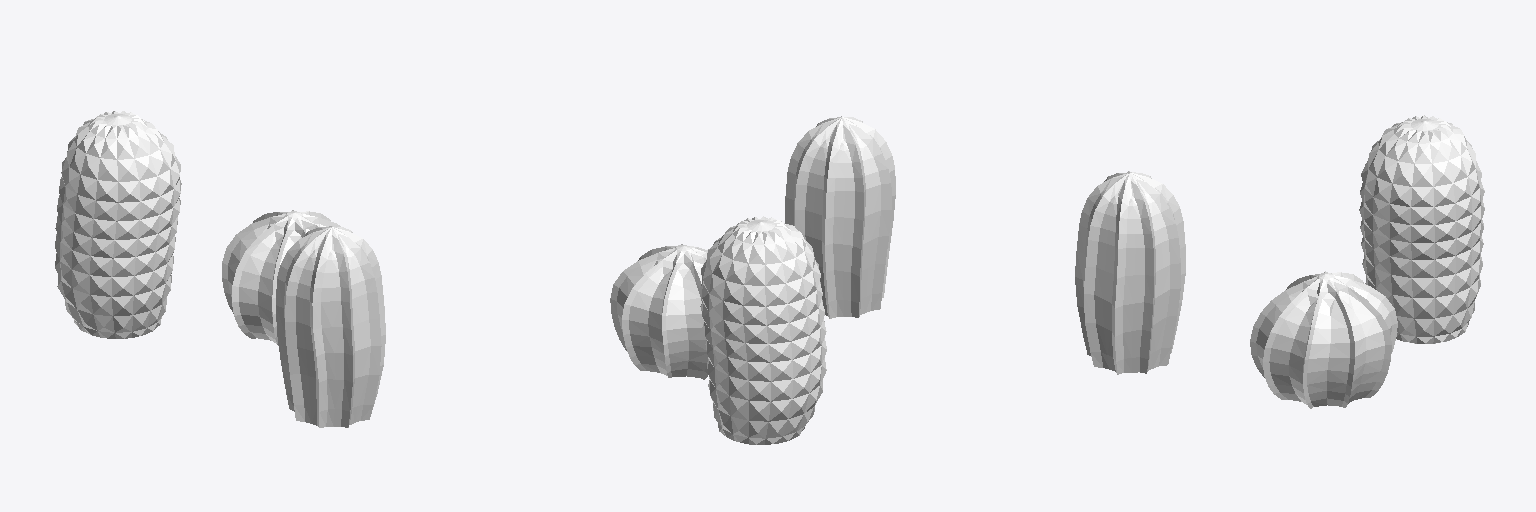
File: sidelight.obj
The picture shows the model from 3 angles: view 1: azimuth 30°, elevation 25°; view 2: azimuth 150°, elevation 25°; view 3: azimuth 270°, elevation 25°; orthographic projection.
Parts seen in each view (by area): view 1: Sphere011_Scene.002, Sphere010_Scene.001, Sphere012_Scene.003; view 2: Sphere011_Scene.002, Sphere010_Scene.001, Sphere012_Scene.003; view 3: Sphere011_Scene.002, Sphere010_Scene.001, Sphere012_Scene.003.
Part boxes in pixels (x1,y1,x2,y2): Sphere011_Scene.002: (55, 111, 181, 338); Sphere010_Scene.001: (276, 226, 385, 427); Sphere012_Scene.003: (222, 210, 340, 345); Sphere011_Scene.002: (700, 216, 826, 444); Sphere010_Scene.001: (785, 116, 895, 318); Sphere012_Scene.003: (610, 244, 707, 379); Sphere011_Scene.002: (1359, 115, 1484, 343); Sphere010_Scene.001: (1075, 171, 1185, 374); Sphere012_Scene.003: (1250, 271, 1397, 408).
Size of the model in its own units: 0.2252 by 0.181 by 0.3262.